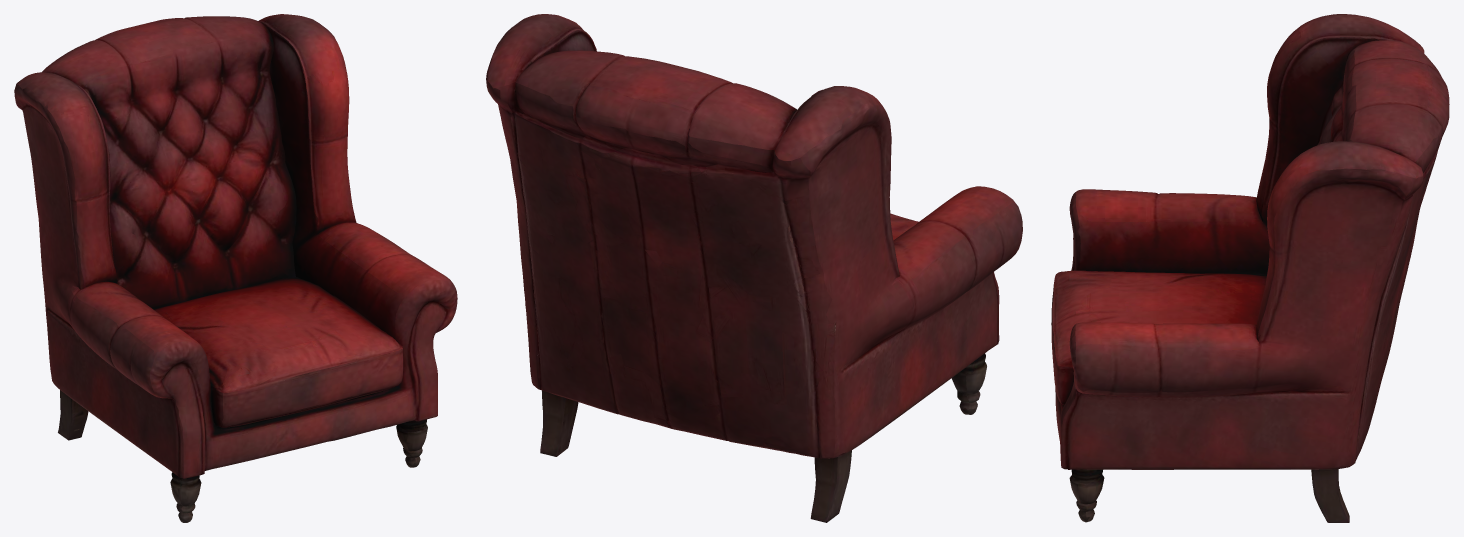
Rendered from fauteuil-rouge-expo.glb.
The picture shows the model from 3 angles, left to right: view 1: azimuth 30°, elevation 25°; view 2: azimuth 150°, elevation 25°; view 3: azimuth 270°, elevation 25°; orthographic projection. The views are drawn at different scales.
Parts seen in each view (by area): view 1: geometry_0; view 2: geometry_0; view 3: geometry_0.
Boxes of the visible parts, bbox=[...] form: geometry_0: bbox=[14, 14, 457, 522]; geometry_0: bbox=[486, 14, 1022, 522]; geometry_0: bbox=[1051, 14, 1449, 522].
Size of the model in its own units: 0.9164 by 1 by 0.9419.
Materials: 1 (1 with a texture image).
